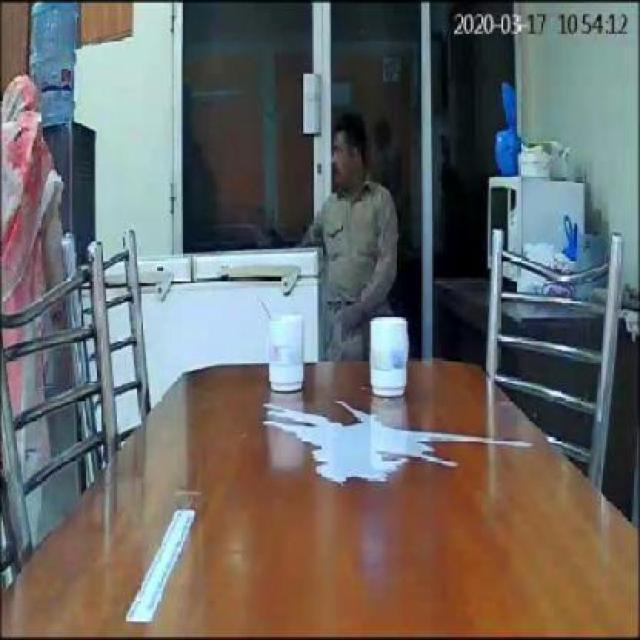spillage: (263, 401, 498, 485)
